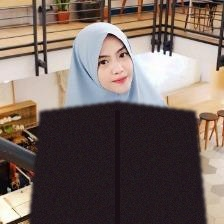Cadar_Niqab: (29, 20, 206, 224)
